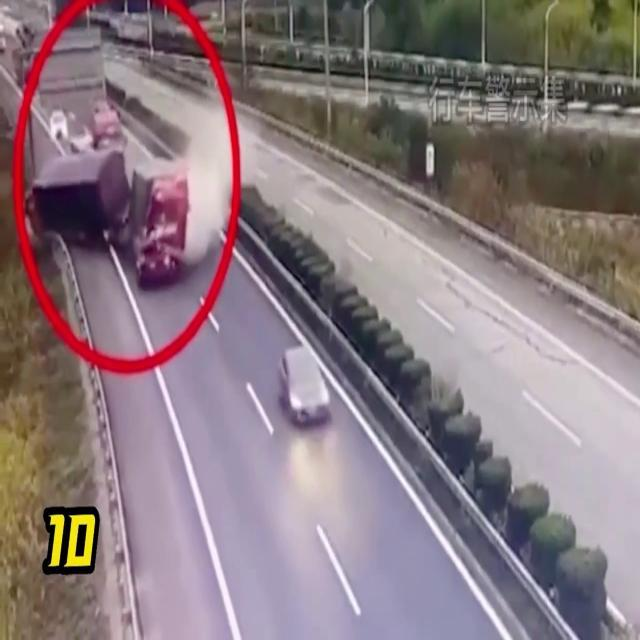multiple_accident: (4, 7, 250, 299)
normal: (272, 346, 340, 445)
